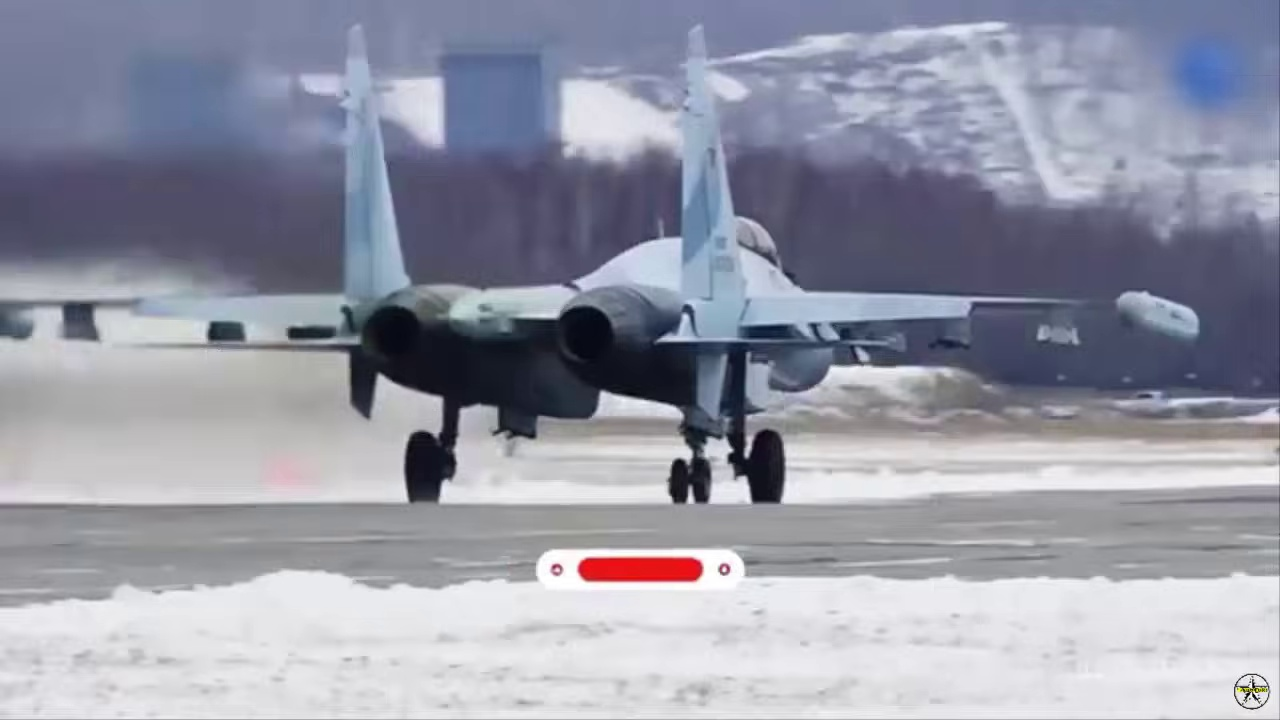Su35: (0, 14, 1204, 511)
